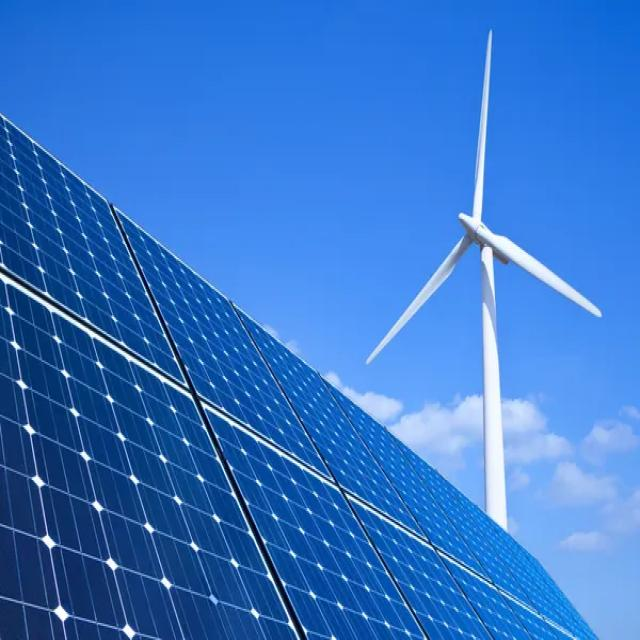clean-solar-panel: (1, 115, 595, 637)
